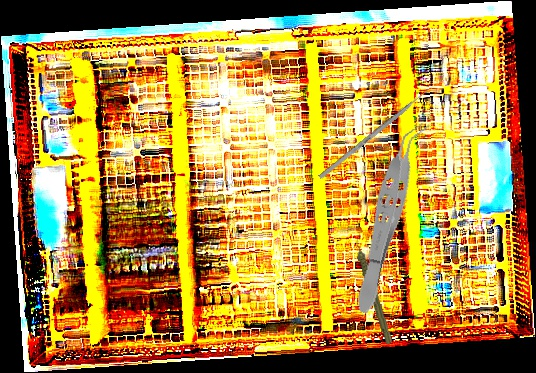Handpiece: (354, 232, 394, 347)
Pusher: (318, 81, 438, 180)
Tissue Forceps: (347, 117, 431, 317)
